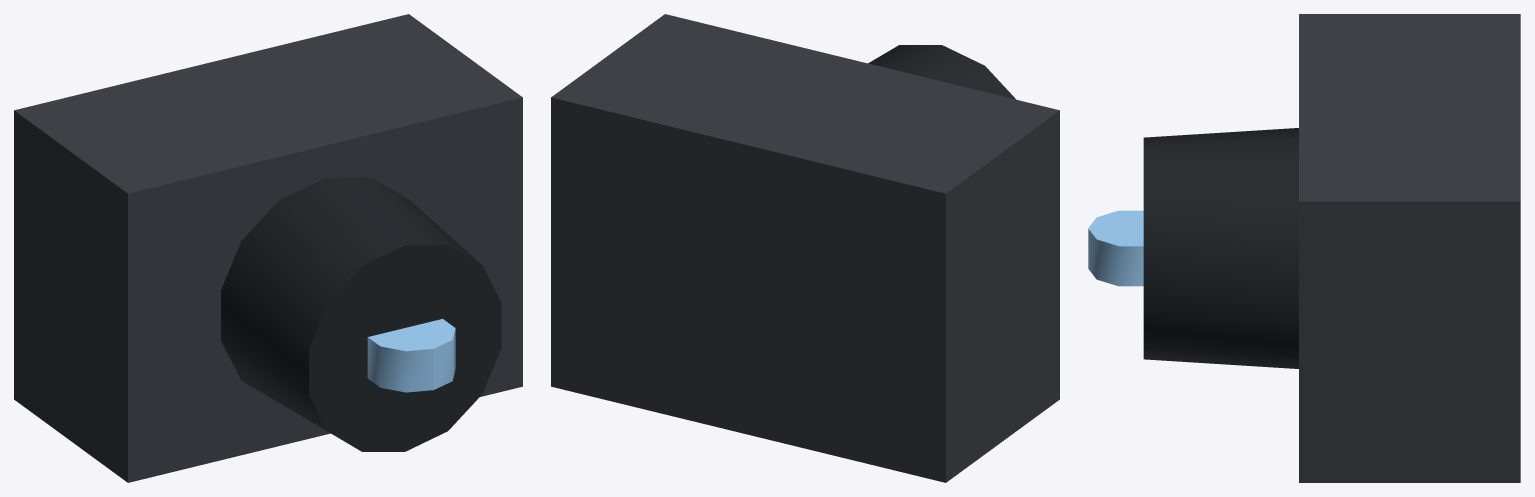
Rendered from held-item.glb.
The picture shows the model from 3 angles, left to right: view 1: azimuth 30°, elevation 25°; view 2: azimuth 150°, elevation 25°; view 3: azimuth 270°, elevation 25°; orthographic projection. The views are drawn at different scales.
Parts seen in each view (by area): view 1: camera; view 2: camera; view 3: camera.
Part boxes in pixels (left/top/right/bottom): camera: left=14, top=14, right=522, bottom=482; camera: left=551, top=14, right=1059, bottom=482; camera: left=1088, top=14, right=1520, bottom=482.
Size of the model in its own units: 0.2 by 0.14 by 0.195.
